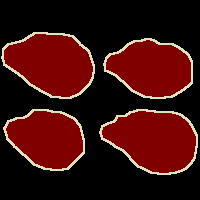hat: (100, 110, 197, 174), (2, 32, 94, 98), (104, 38, 192, 98), (4, 109, 84, 170)
